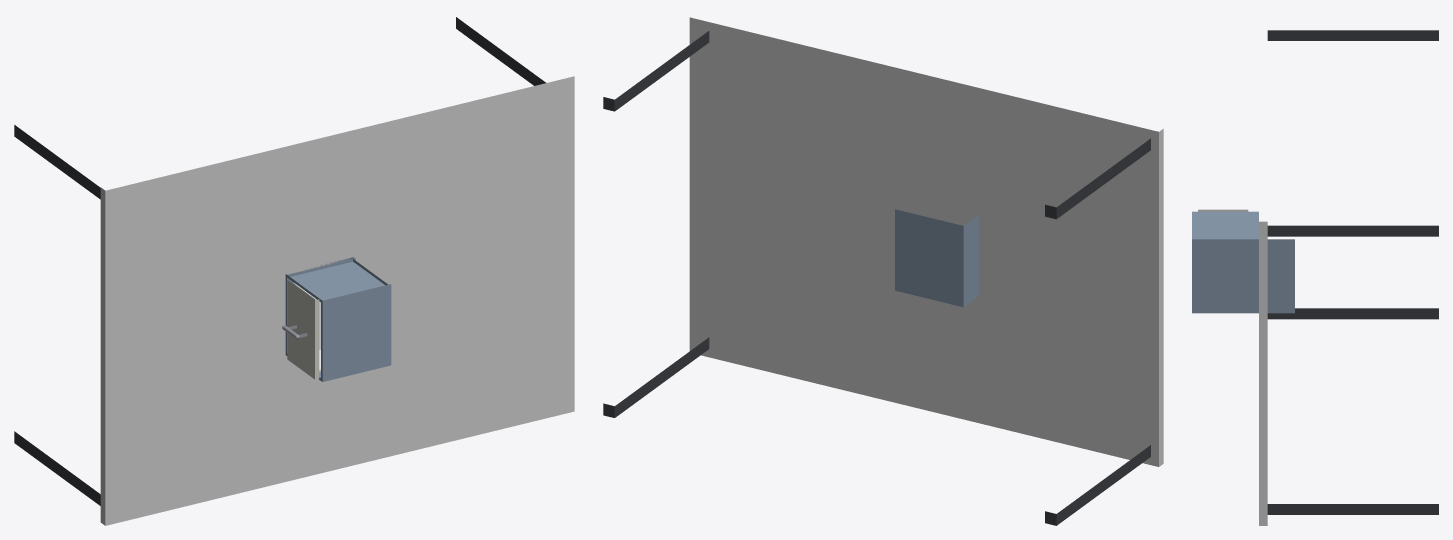
The model's file is t2_dfb396fce6.glb.
The picture shows the model from 3 angles, left to right: view 1: azimuth 30°, elevation 25°; view 2: azimuth 150°, elevation 25°; view 3: azimuth 270°, elevation 25°; orthographic projection. The views are drawn at different scales.
Visible parts, largest first — view 1: s0, s1, s2; view 2: s0, s1; view 3: s0, s1.
Part boxes in pixels (x1,y1,x2,y2): s0: (14,17,574,525); s1: (285,257,391,381); s2: (282,280,320,379); s0: (603,17,1163,525); s1: (895,209,978,307); s0: (1259,30,1438,525); s1: (1192,211,1294,313).
Bounding box in the file's own units: 2.05 × 1.4 × 1.03.
